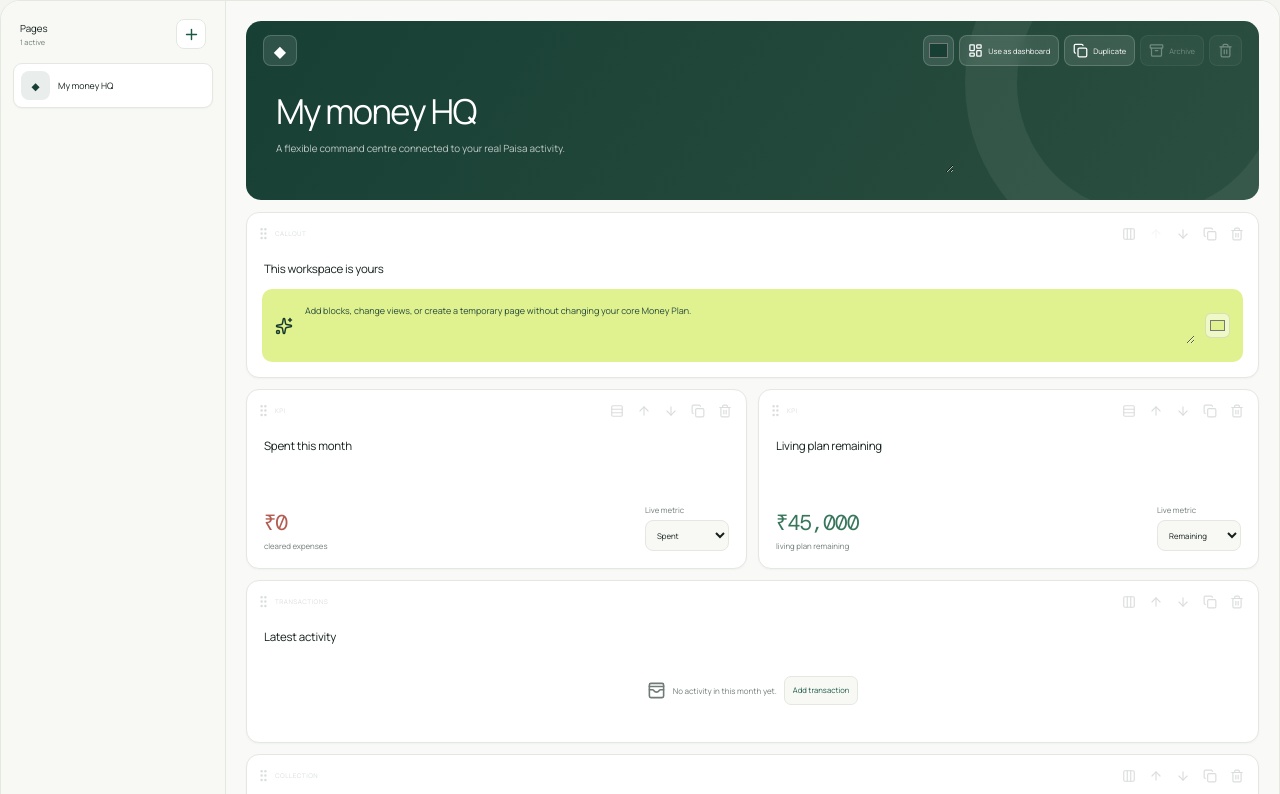
Workspace builder › promotes any page to the dashboard and adds missing dashboard systems
Click the button "Use as dashboard": (1009, 50) [959,35,1059,66]
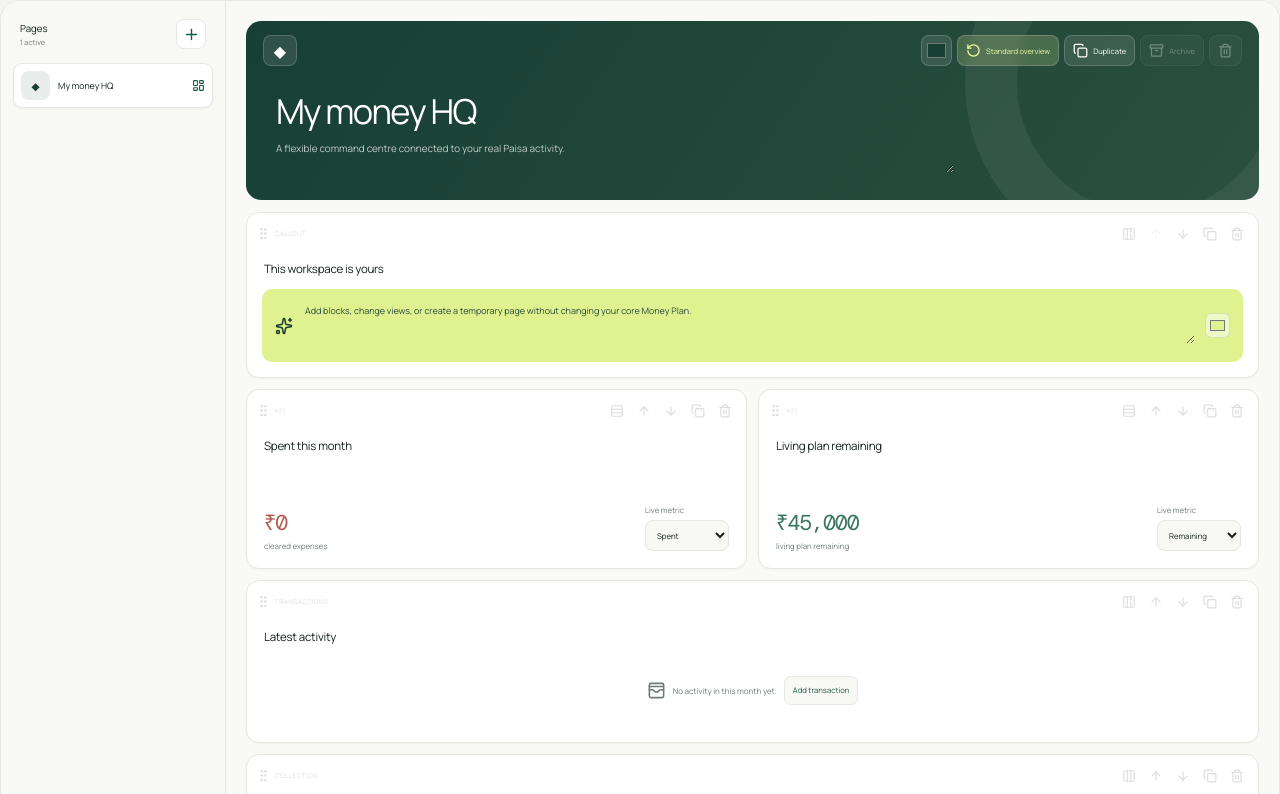
Now the button "Standard overview" is shown
Click the button "Standard overview": (1008, 50) [957,35,1059,66]
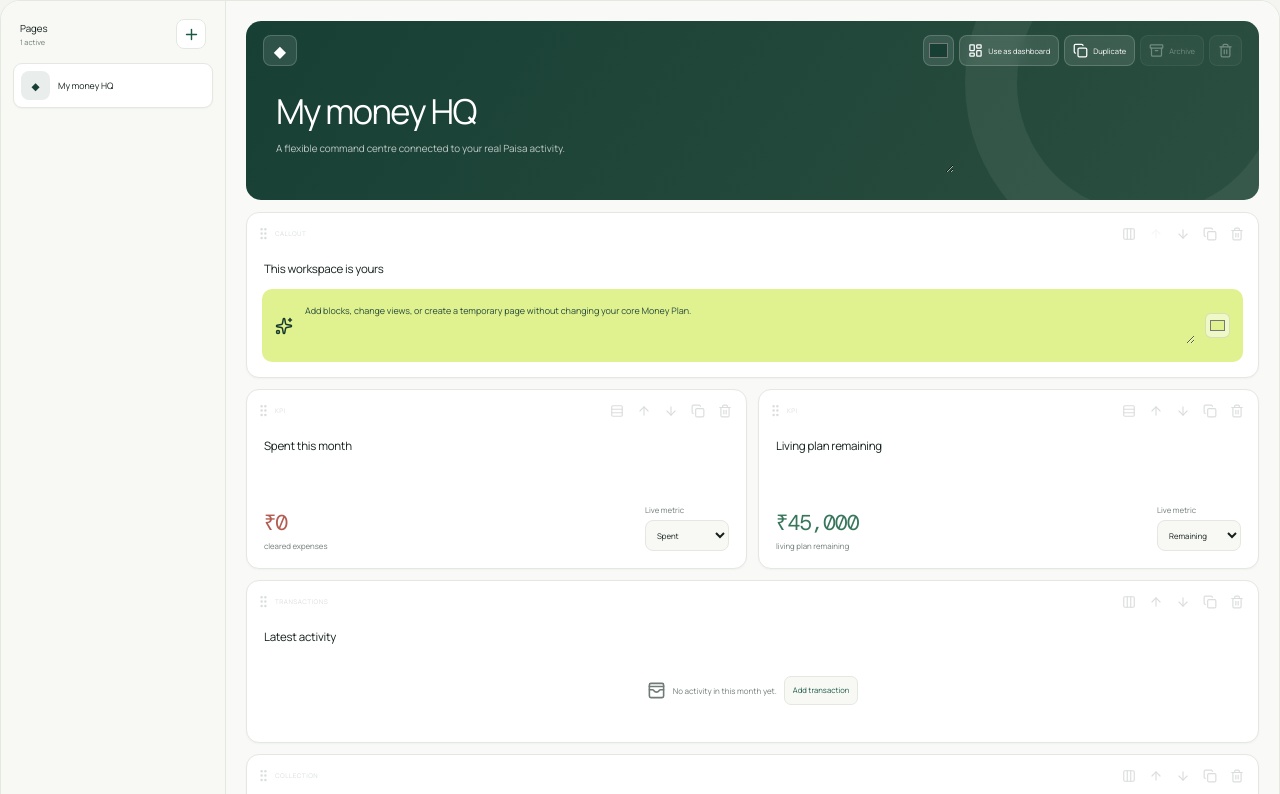
Now the button "Use as dashboard" is shown, box [959,35,1059,66]
